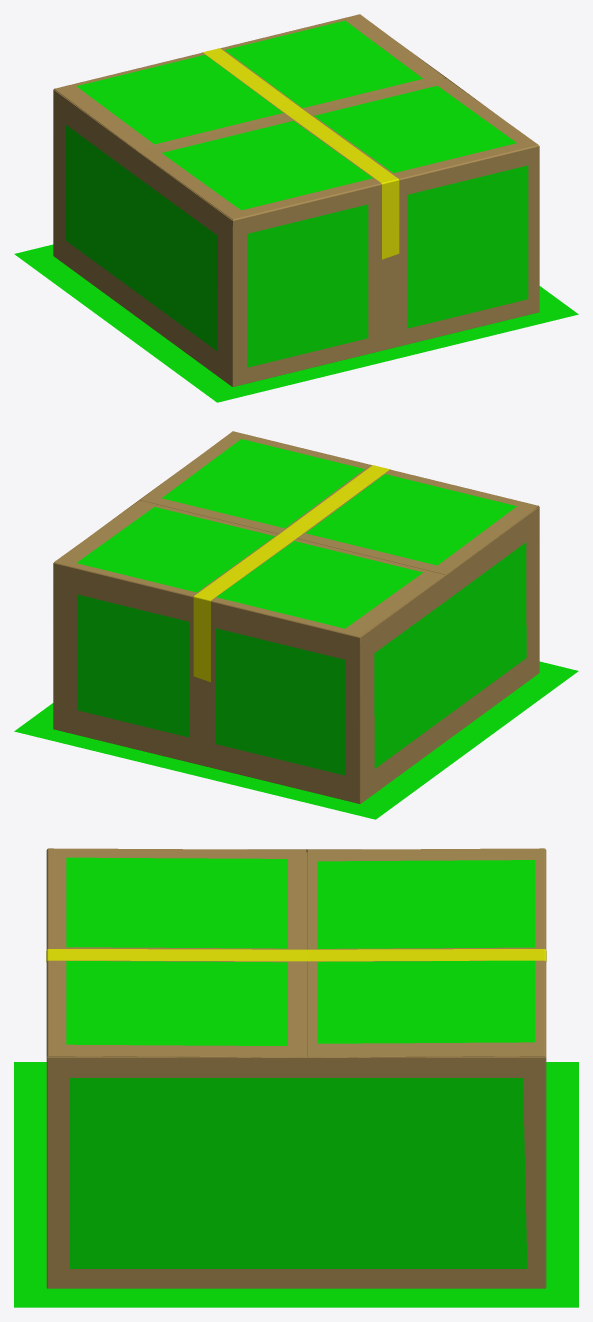
The model's file is box_wide_flat.fbx.
3 renders of one model, top to bottom at view 1: azimuth 30°, elevation 25°; view 2: azimuth 150°, elevation 25°; view 3: azimuth 270°, elevation 25°, orthographic. The views are drawn at different scales.
Parts seen in each view (by area): view 1: box_wide_flat_decal, box_wide_flat_box, box_wide_flat_shdw_decal, box_wide_flat_tape; view 2: box_wide_flat_decal, box_wide_flat_box, box_wide_flat_shdw_decal, box_wide_flat_tape; view 3: box_wide_flat_decal, box_wide_flat_box, box_wide_flat_shdw_decal, box_wide_flat_tape.
Boxes of the visible parts, left/top/right/bottom form: box_wide_flat_decal: left=65, top=20, right=528, bottom=367; box_wide_flat_box: left=53, top=14, right=539, bottom=386; box_wide_flat_shdw_decal: left=14, top=244, right=578, bottom=402; box_wide_flat_tape: left=202, top=48, right=399, bottom=259; box_wide_flat_decal: left=76, top=439, right=526, bottom=775; box_wide_flat_box: left=53, top=431, right=539, bottom=803; box_wide_flat_shdw_decal: left=14, top=661, right=578, bottom=819; box_wide_flat_tape: left=193, top=465, right=390, bottom=682; box_wide_flat_decal: left=66, top=857, right=534, bottom=1268; box_wide_flat_box: left=46, top=848, right=546, bottom=1288; box_wide_flat_shdw_decal: left=14, top=1062, right=578, bottom=1307; box_wide_flat_tape: left=46, top=949, right=546, bottom=961.
Size of the model in its own units: 30.43 by 13.51 by 29.61.
